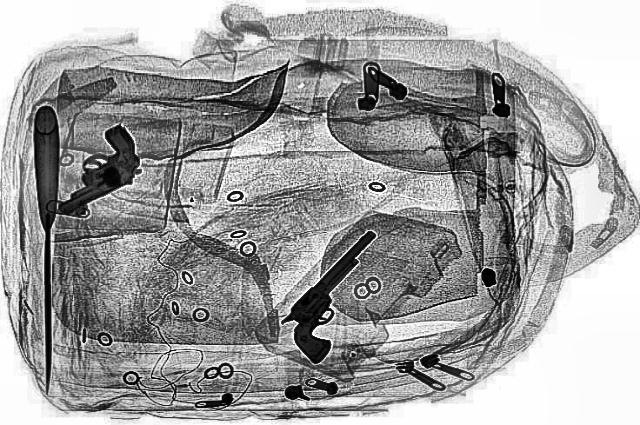Gun: (250, 228, 432, 364), (14, 123, 170, 215)
Knife: (31, 105, 65, 394)
